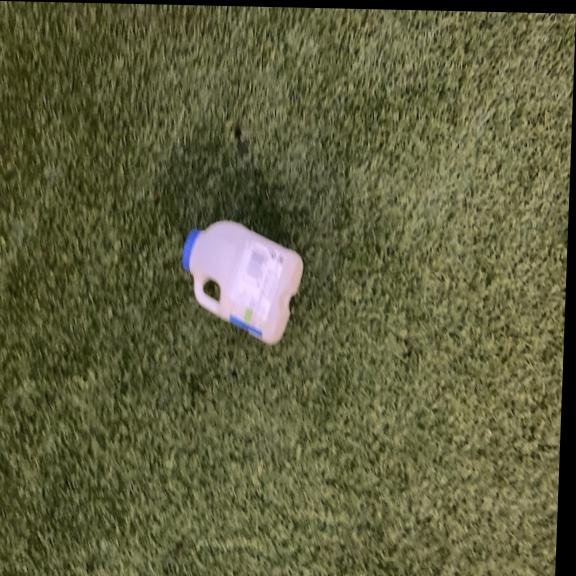Plastik: (176, 212, 307, 347)
